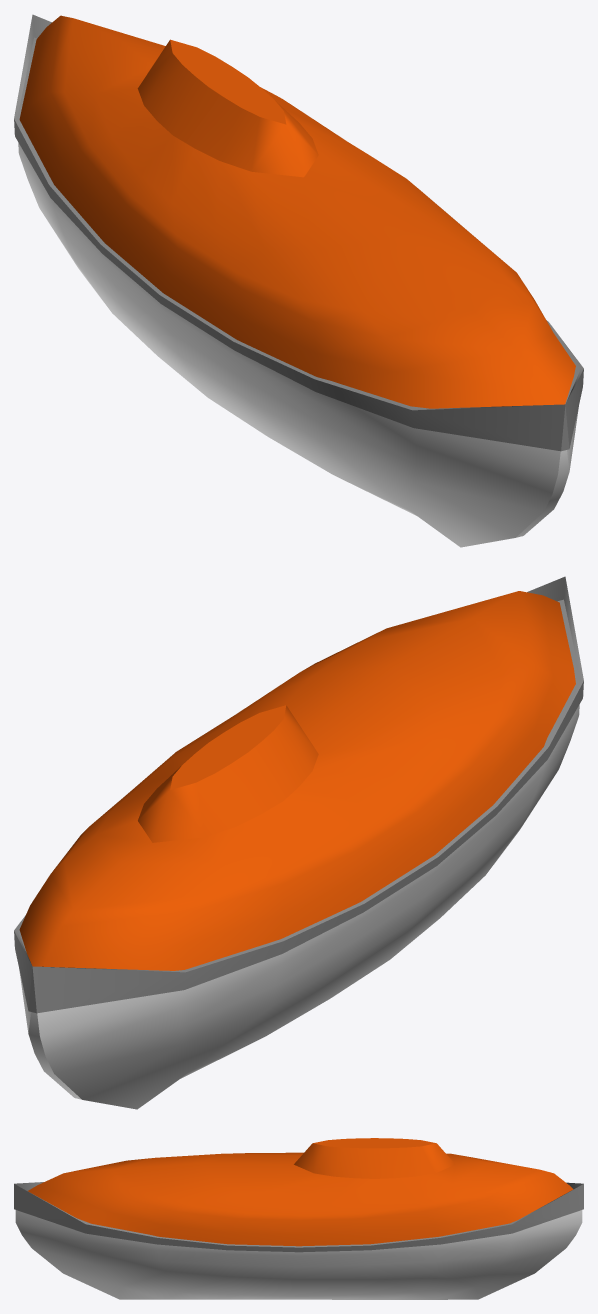
File: small_boat_low.fbx
The picture shows the model from 3 angles, top to bottom: view 1: azimuth 30°, elevation 25°; view 2: azimuth 150°, elevation 25°; view 3: azimuth 270°, elevation 25°; orthographic projection. The views are drawn at different scales.
Visible parts, largest first — view 1: small_boat_low; view 2: small_boat_low; view 3: small_boat_low.
Part boxes in pixels (bbox=[...]): small_boat_low: bbox=[14, 14, 583, 547]; small_boat_low: bbox=[14, 576, 583, 1109]; small_boat_low: bbox=[14, 1138, 583, 1299].
Size of the model in its own units: 152 by 151 by 503.
